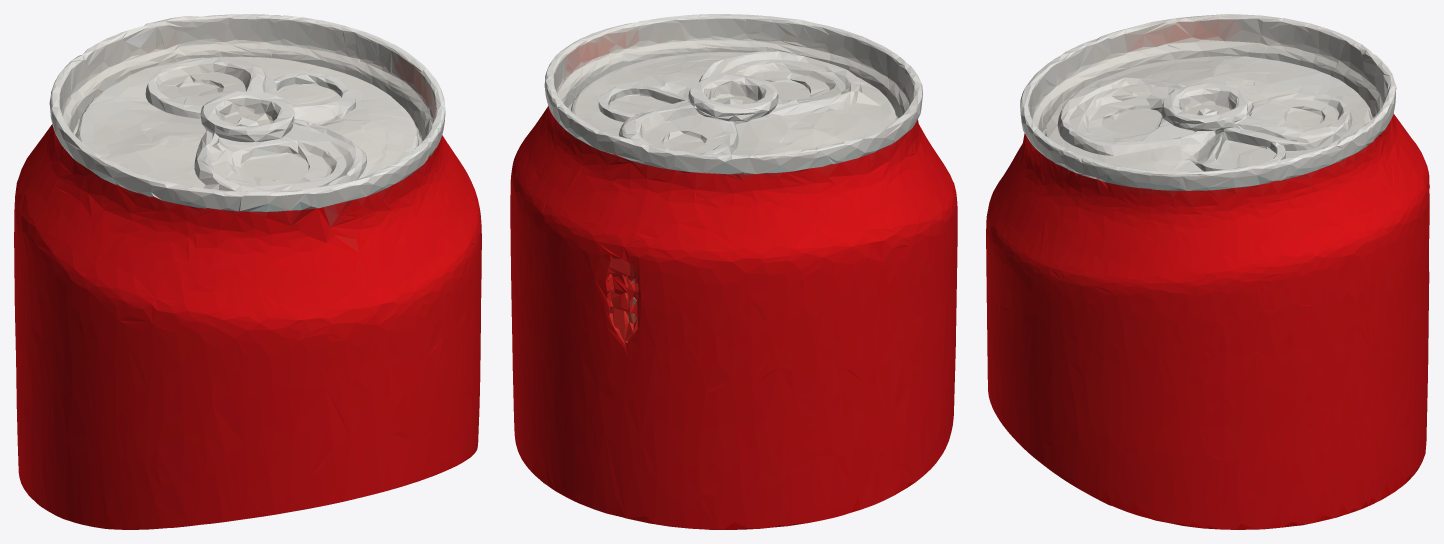
The model's file is cola.glb.
3 renders of one model, left to right at view 1: azimuth 30°, elevation 25°; view 2: azimuth 150°, elevation 25°; view 3: azimuth 270°, elevation 25°, orthographic. The views are drawn at different scales.
Visible parts, largest first — view 1: geometry_0; view 2: geometry_0; view 3: geometry_0.
Boxes of the visible parts, <box> form: geometry_0: <box>14,14,481,529</box>; geometry_0: <box>510,14,957,529</box>; geometry_0: <box>986,14,1429,529</box>.
Bounding box in the file's own units: 0.122 × 0.109 × 0.1217.
Materials: 1 (1 with a texture image).
